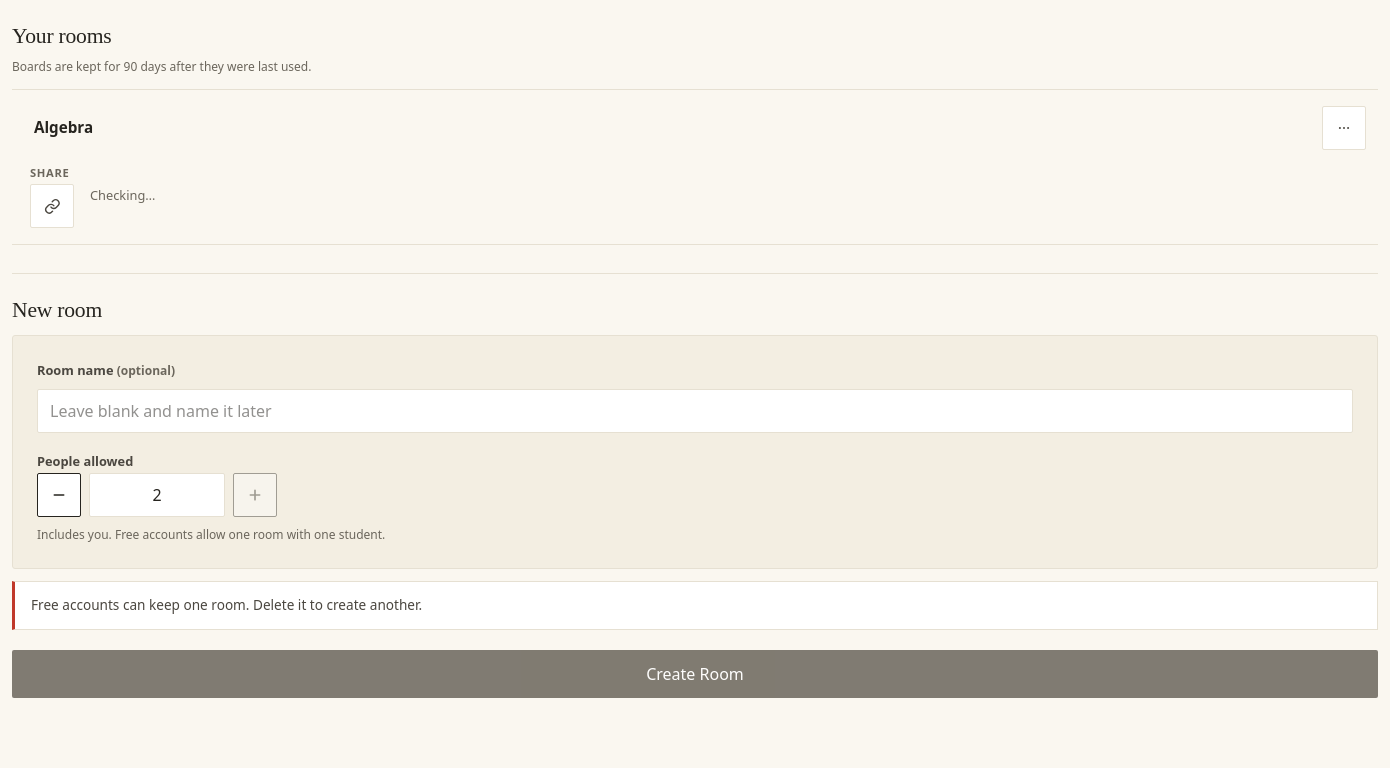
TeacherRoomsPanel rename and delete › keeps the room and the editor open when the rename is refused
This screenshot has width=1390, height=768.
Expected: the link with test id "whiteboard-room-list-item-room-alpha" is shown, x1=34 y1=117 x2=93 y2=137
Click the button with test id "whiteboard-room-menu-room-alpha" at (1344, 128), box x1=1322 y1=106 x2=1366 y2=150
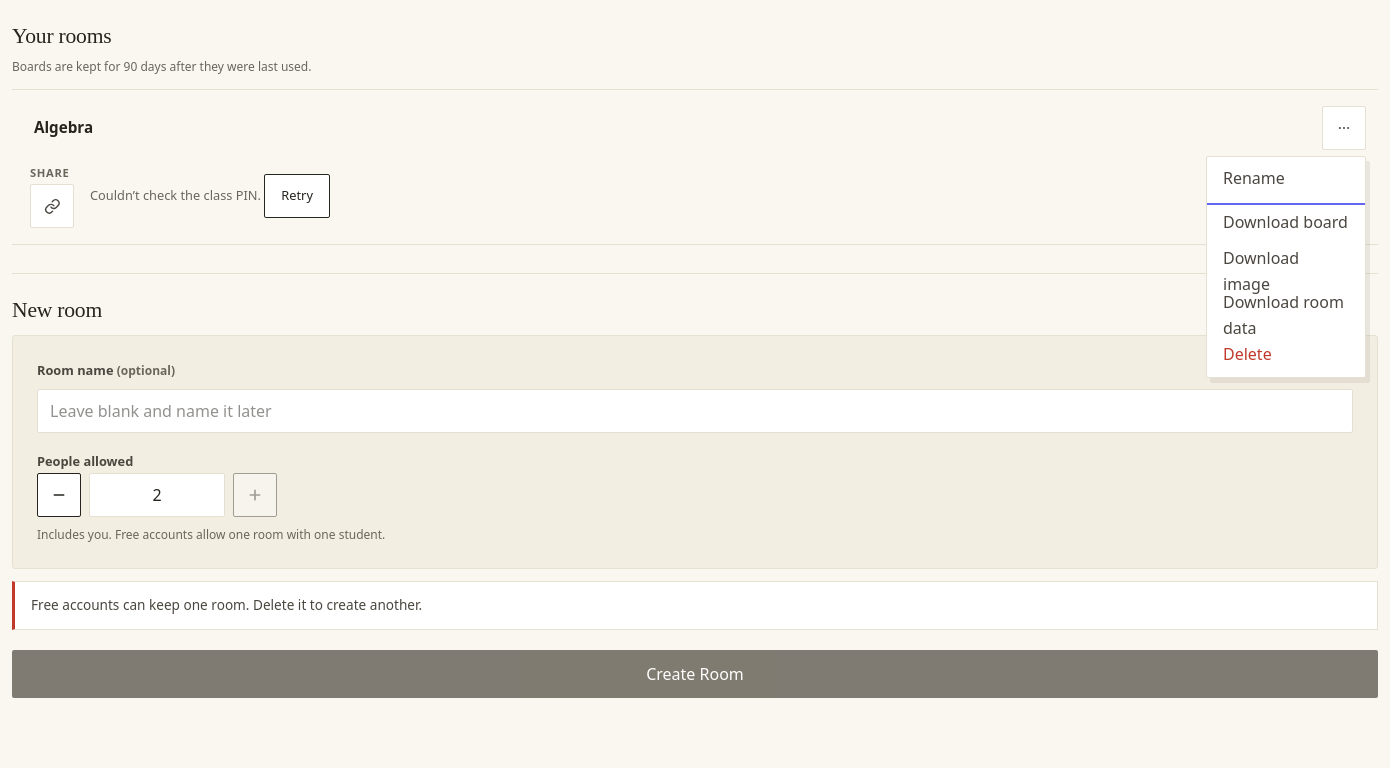
Click the menu item with test id "whiteboard-room-rename-room-alpha" at (1286, 179), box x1=1207 y1=157 x2=1365 y2=201
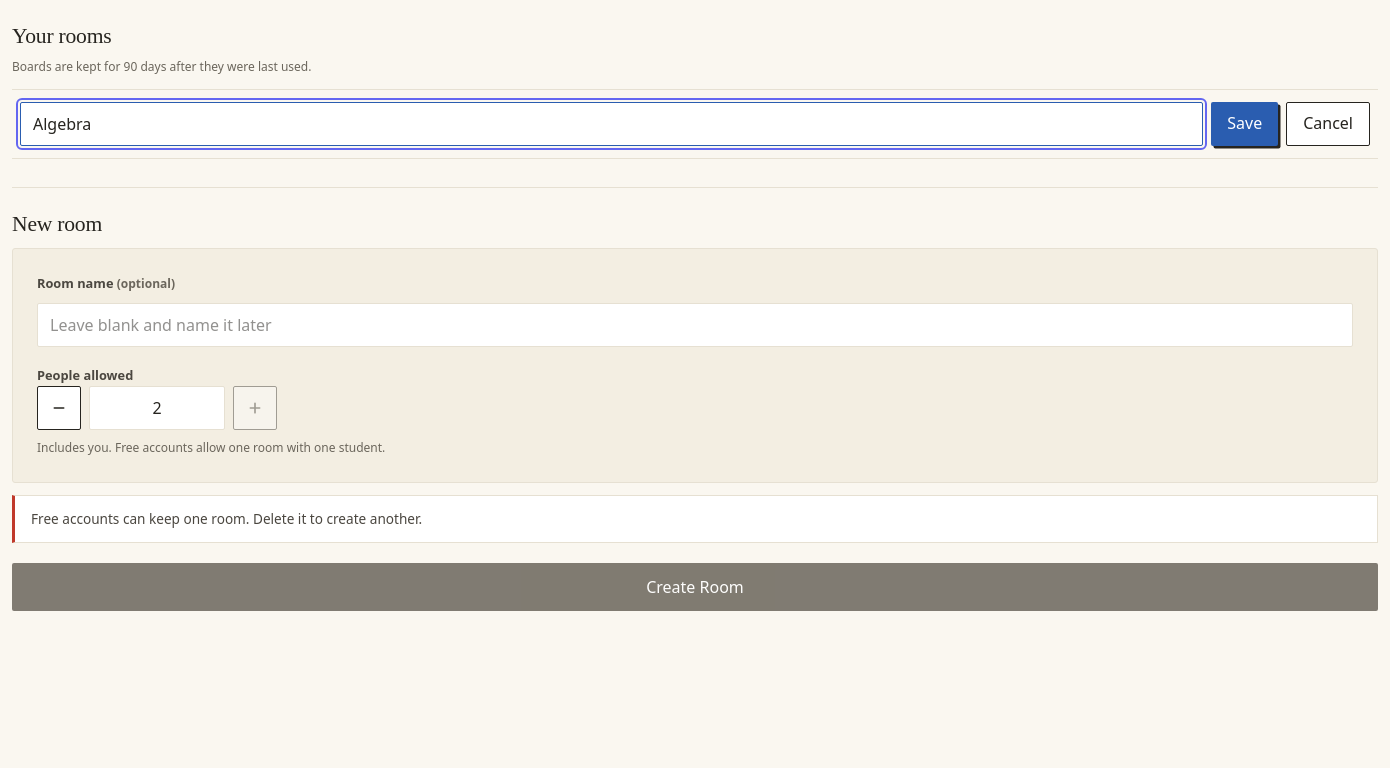
Replace the text in the field with test id "whiteboard-room-name-input-room-alpha" with "Geometry" at (612, 124), box x1=20 y1=102 x2=1203 y2=146
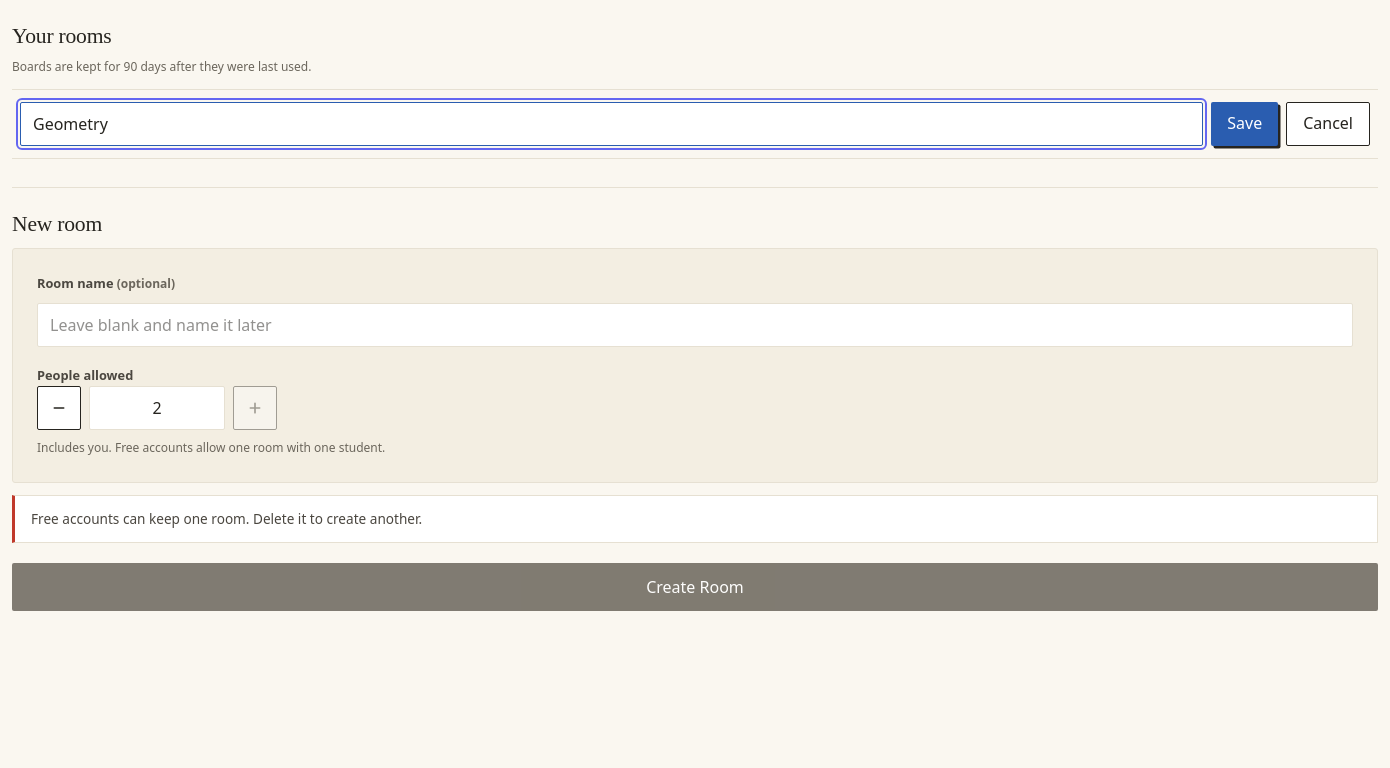
Click the button with test id "whiteboard-room-name-save-room-alpha" at (1245, 124), box x1=1211 y1=102 x2=1278 y2=146
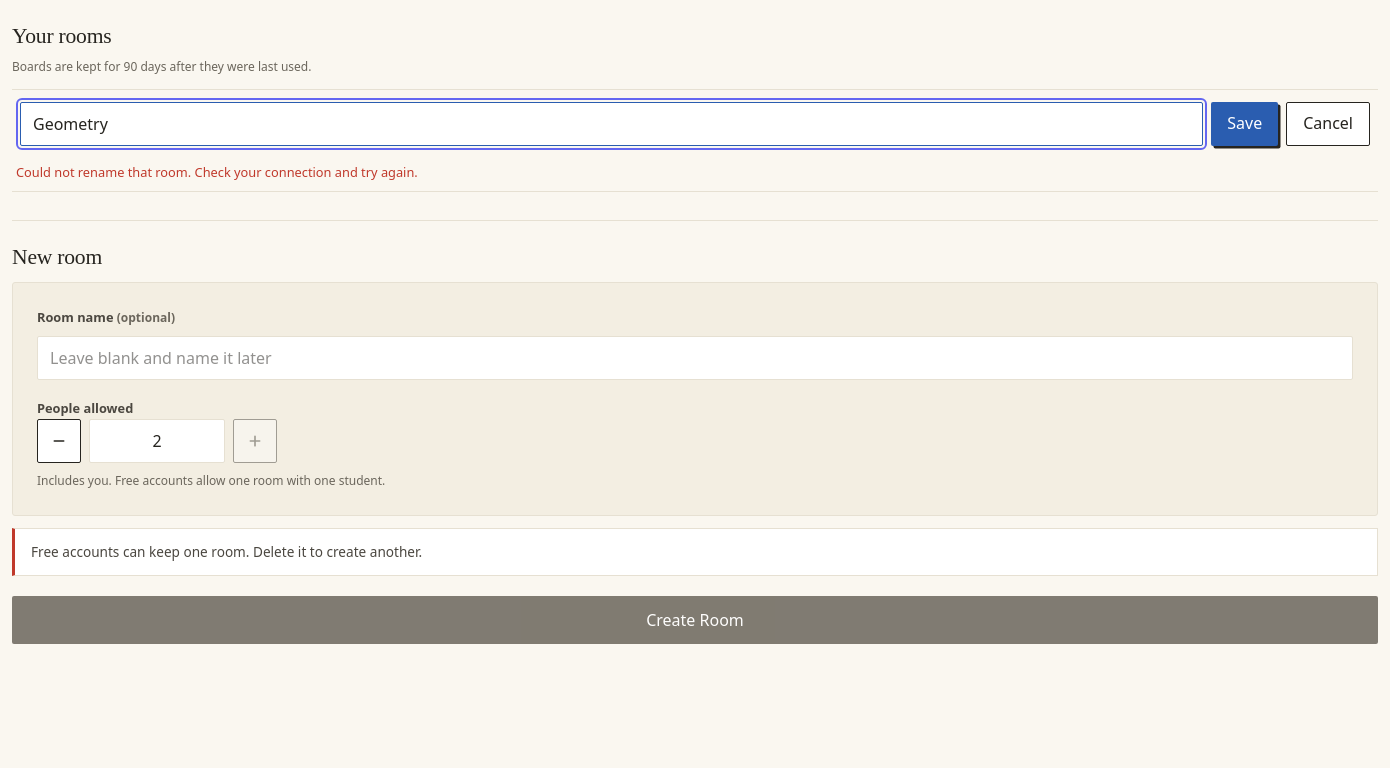
Now the message "Could not rename that room. Check your connection and try again." is shown, box x1=16 y1=163 x2=418 y2=181
